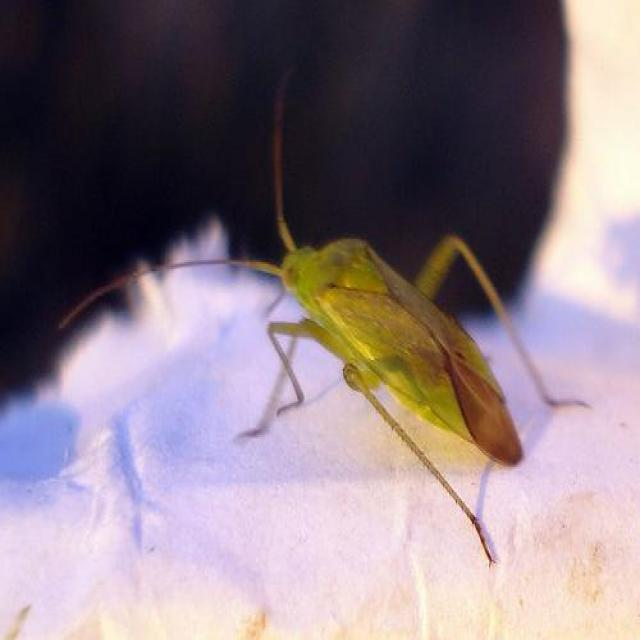Miridae-Adult-: (57, 49, 593, 571)
